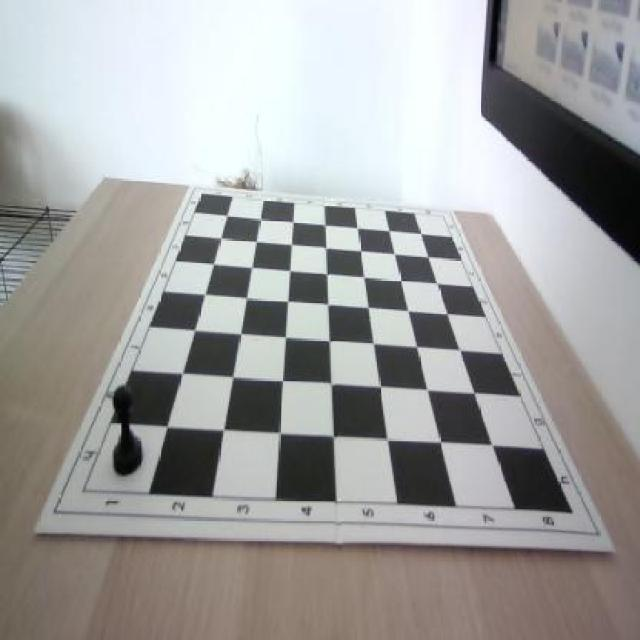black-knight: (110, 385, 144, 477)
